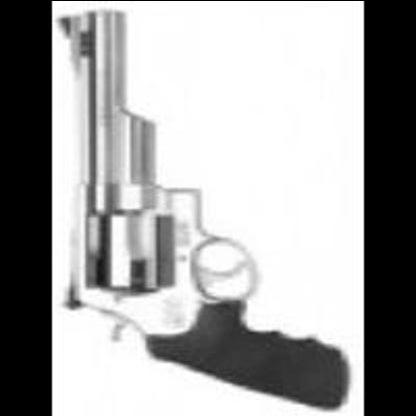weapon: (55, 7, 354, 410)
